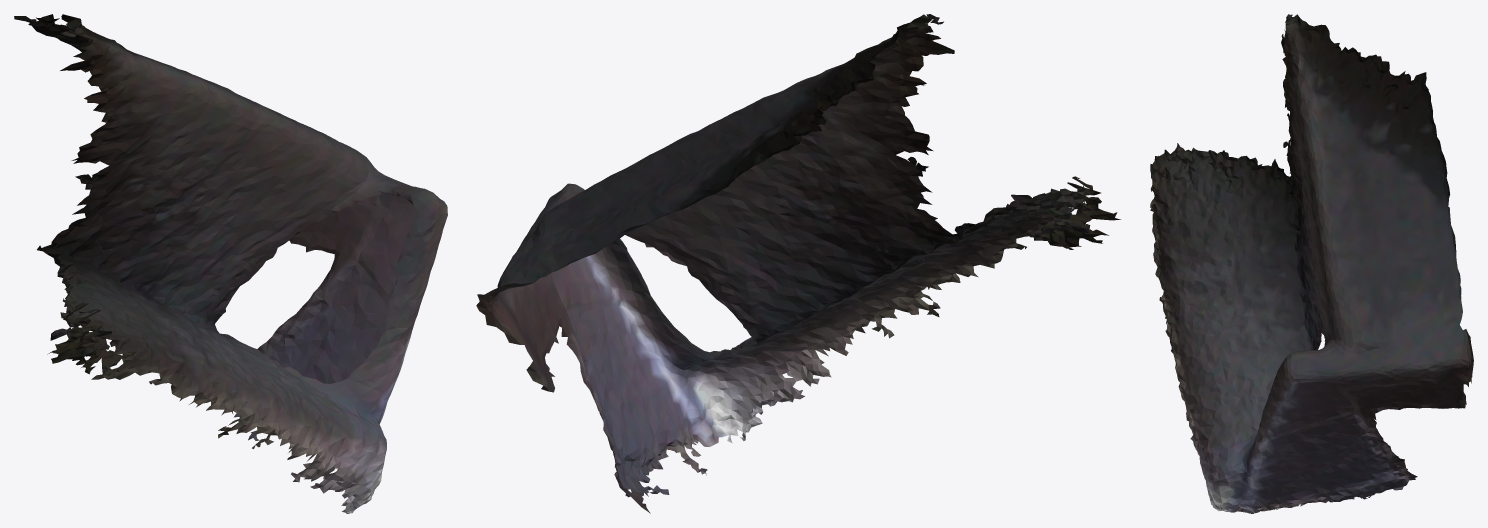
The model's file is 0-couch.obj.
3 renders of one model, left to right at view 1: azimuth 30°, elevation 25°; view 2: azimuth 150°, elevation 25°; view 3: azimuth 270°, elevation 25°, orthographic. The views are drawn at different scales.
Size of the model in its own units: 1.24 by 1.26 by 0.9085.
